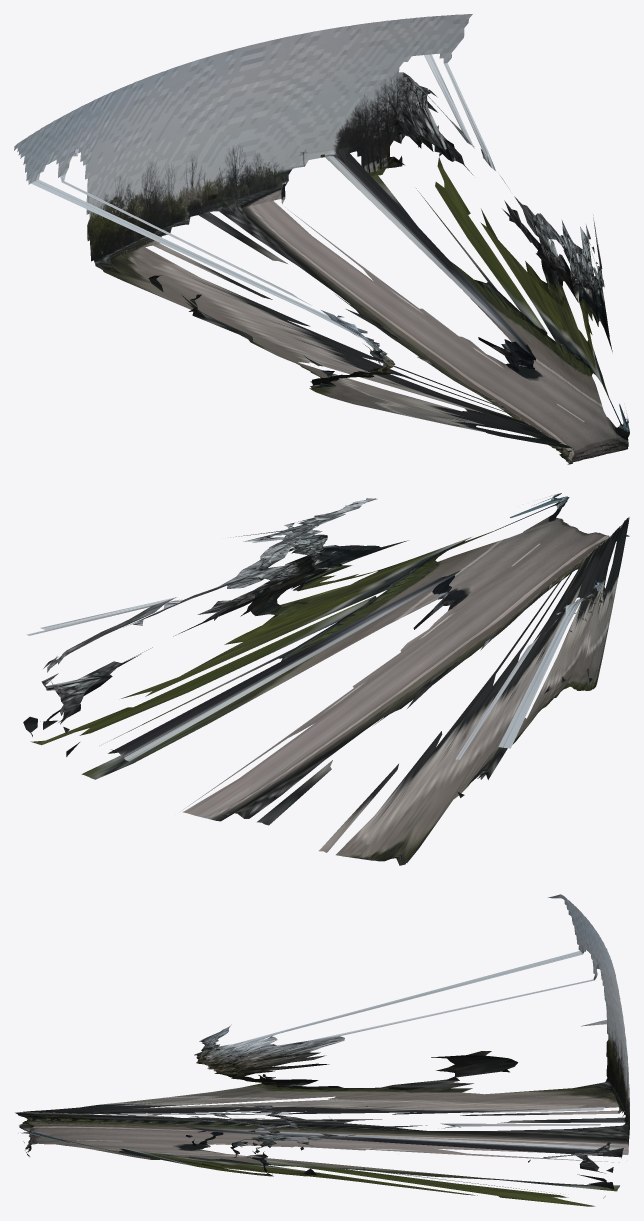
3 views of the same model, one above another, from view 1: azimuth 30°, elevation 25°; view 2: azimuth 150°, elevation 25°; view 3: azimuth 270°, elevation 25° (orthographic). The views are drawn at different scales.
Parts seen in each view (by area): view 1: defaultobject; view 2: defaultobject; view 3: defaultobject.
Part boxes in pixels (<box>): defaultobject: <box>14,14,629,464</box>; defaultobject: <box>23,493,629,865</box>; defaultobject: <box>15,894,629,1206</box>.
Bounding box in the file's own units: 34.98 × 12.72 × 45.23.
Materials: 1 (1 with a texture image).
